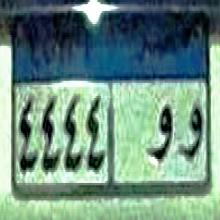4: (82, 87, 105, 179), (38, 92, 61, 176), (17, 91, 39, 178), (62, 93, 83, 175)
waw: (143, 96, 175, 172), (179, 97, 202, 168)
